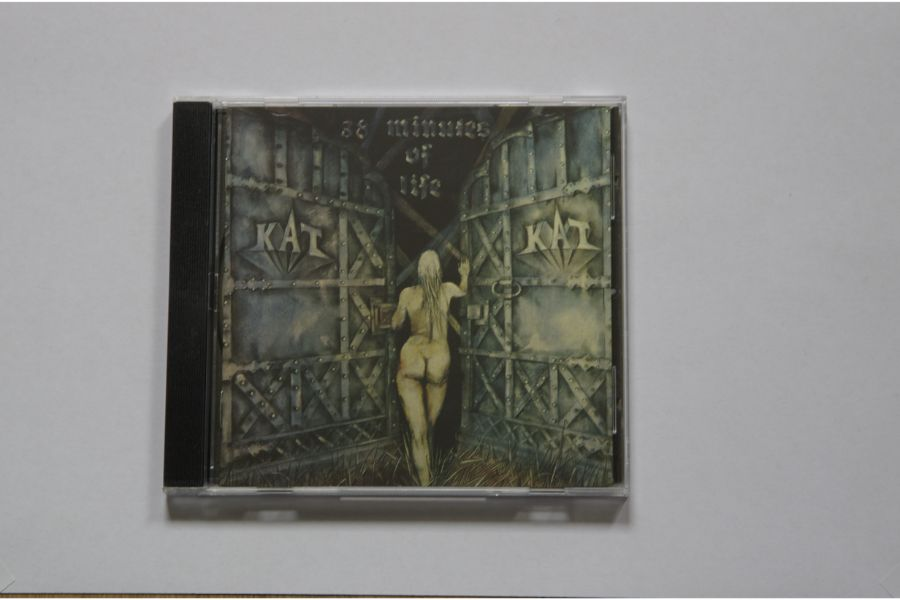album: (164, 96, 633, 501)
